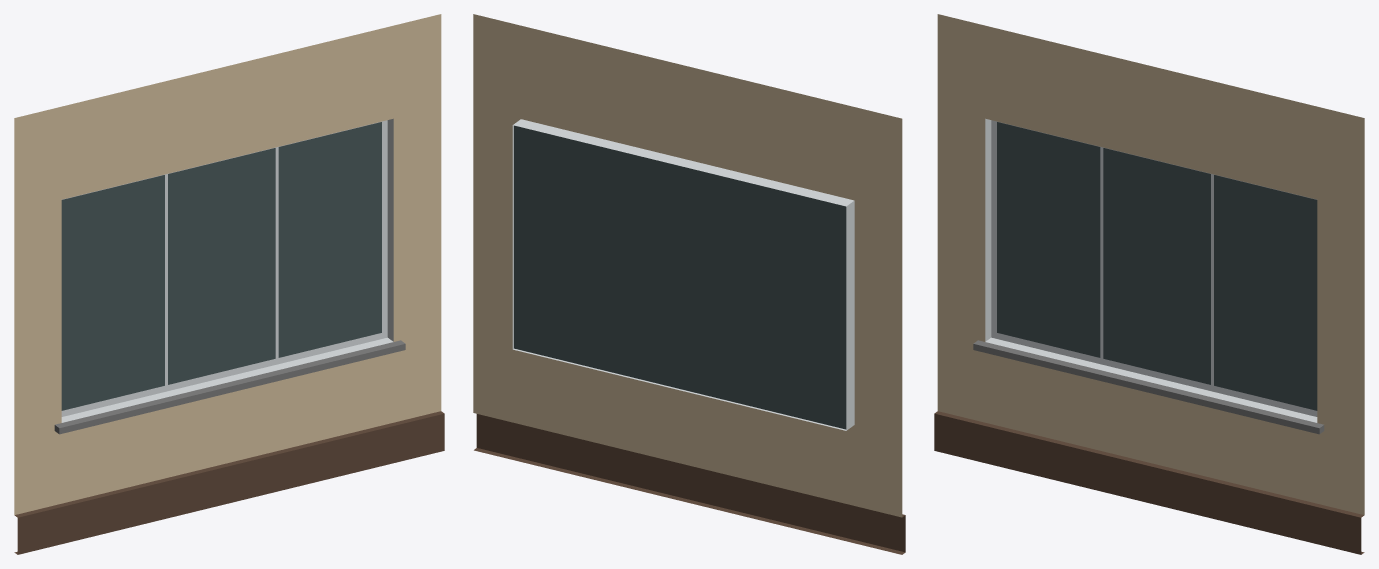
The model's file is mid-w1.fbx.
3 renders of one model, left to right at view 1: azimuth 30°, elevation 25°; view 2: azimuth 150°, elevation 25°; view 3: azimuth 330°, elevation 25°, orthographic.
Parts seen in each view (by area): view 1: a2009/200/mid-w1; view 2: a2009/200/mid-w1; view 3: a2009/200/mid-w1.
Boxes of the visible parts, x1=… form: a2009/200/mid-w1: x1=14, y1=14, x2=444, y2=554; a2009/200/mid-w1: x1=473, y1=14, x2=905, y2=554; a2009/200/mid-w1: x1=934, y1=14, x2=1364, y2=554.
Bounding box in the file's own units: 3.6 × 3.5 × 0.19.
